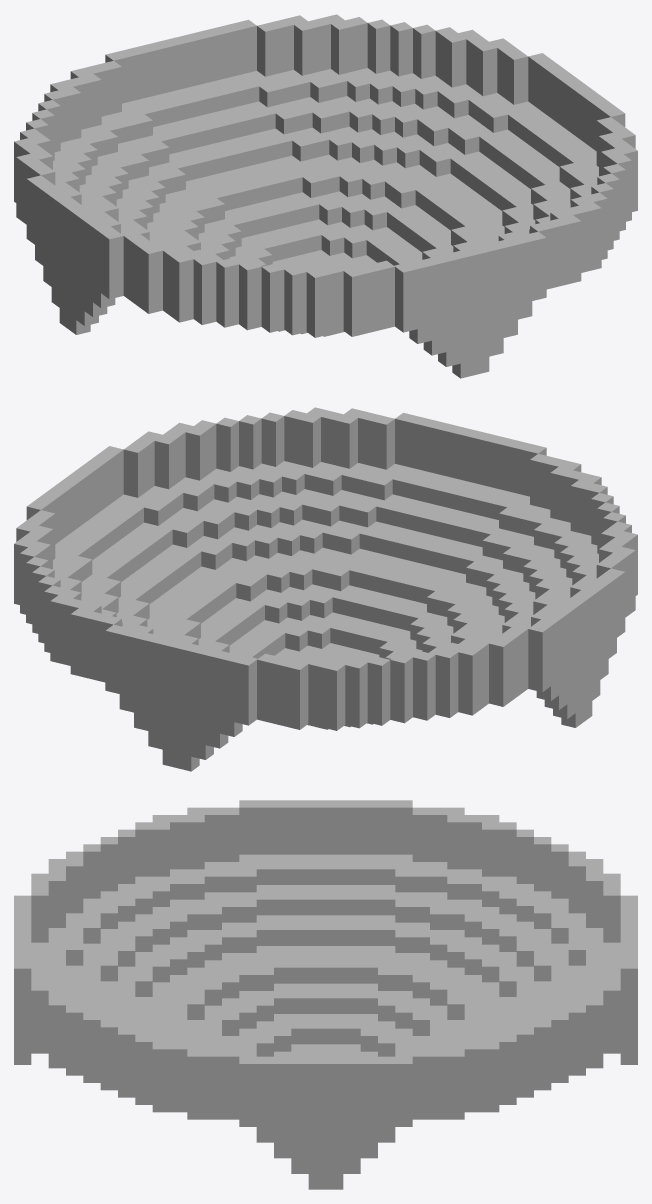
File: OfferingPan.obj
The picture shows the model from 3 angles, top to bottom: view 1: azimuth 30°, elevation 25°; view 2: azimuth 150°, elevation 25°; view 3: azimuth 270°, elevation 25°; orthographic projection. The views are drawn at different scales.
Visible parts, largest first — view 1: OfferingPan; view 2: OfferingPan; view 3: OfferingPan.
Part boxes in pixels (box(x1,y1,x2,y2)): OfferingPan: box(14, 14, 637, 378); OfferingPan: box(14, 407, 637, 771); OfferingPan: box(14, 800, 637, 1189).
Size of the model in its own units: 36 by 10 by 36.
Materials: 1 (1 with a texture image).
